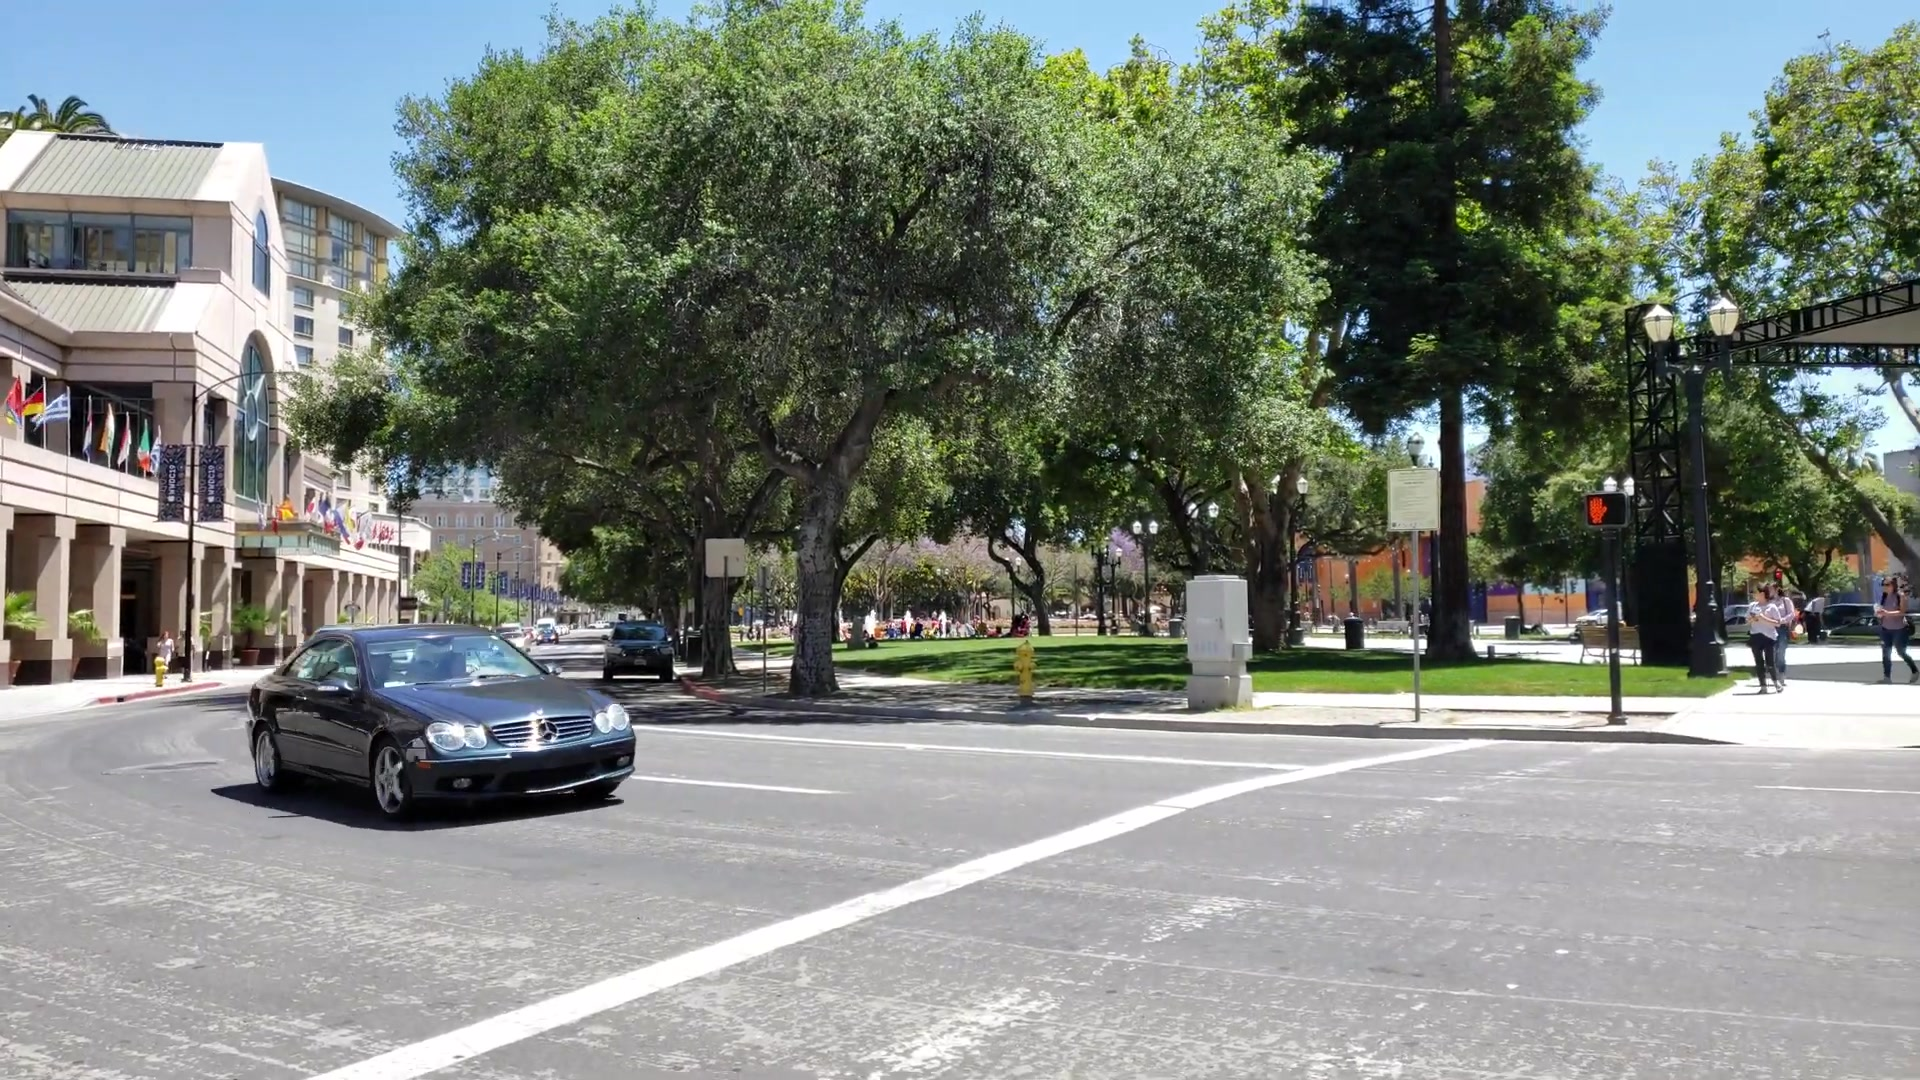vehicle: (249, 625, 634, 806), (604, 620, 678, 682)
